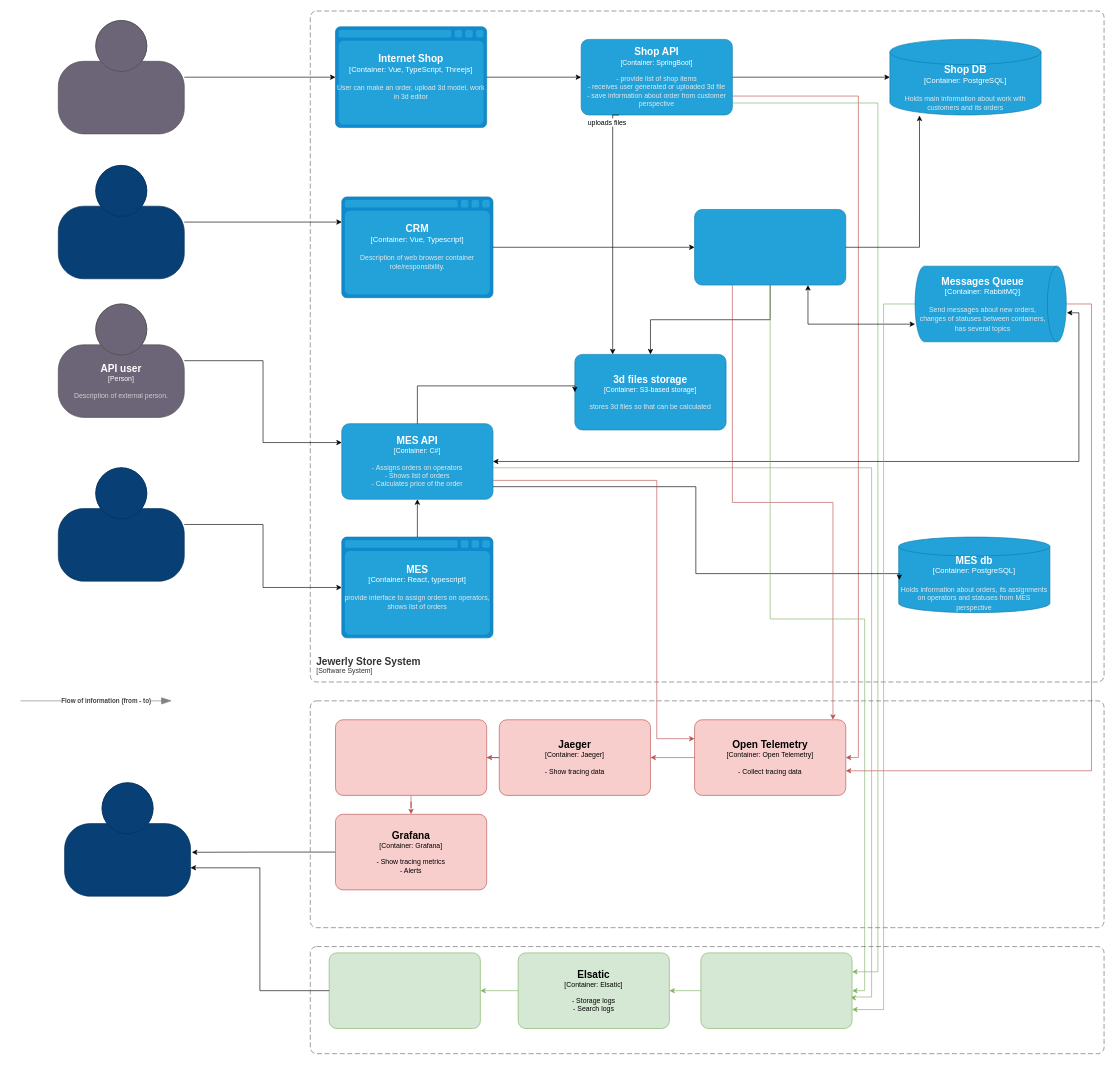
The diagram is 1115 pixels wide and 1065 high, and some of its shapes have lost their labels. The shapes that lost their labels are listed below. From the top down, each one's centre as x and y in pixels, then its label:
At pixel 121 77: "Customer [Person] Description of external person.".
At pixel 121 222: "Seller [Person] Operates with order, confirms manufacturing for the user".
At pixel 770 247: "CRM API [Container: SpringBoot] Description of container role/responsibility.".
At pixel 121 524: "Operator [Person] Takes order in work, manufactures jewerly".
At pixel 411 757: "Prometheus [Container: Prometheus] - Collect tracing metrics".
At pixel 127 839: "Dev [Person]".
At pixel 404 990: "Kibana [Container: Kibana] - Visualize logs - Alerts".
At pixel 776 990: "Logstash [Container: Logstash] - Process logs - Send logs to Elastic".
